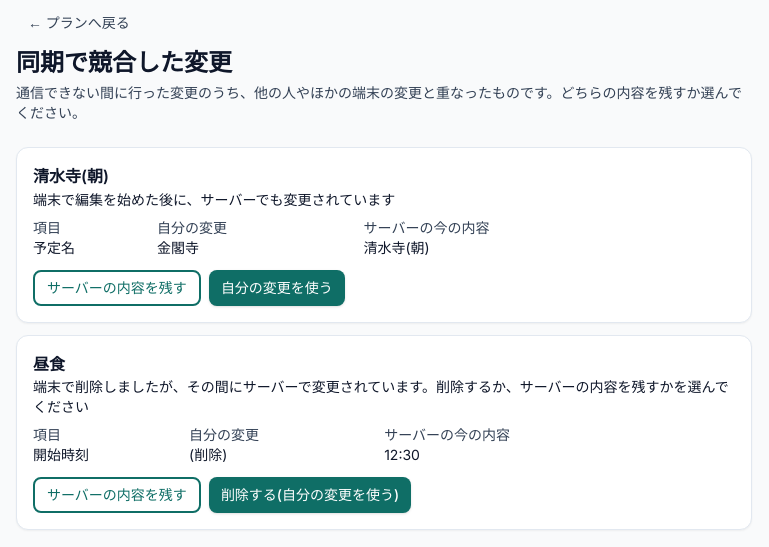
SyncConflictsPage (Gate P11) › 自分の変更とサーバーの内容を比べて、自分の変更を使う(本案のrevisionを送る)
Click the button "自分の変更を使う": (277, 288) [209,270,345,306]
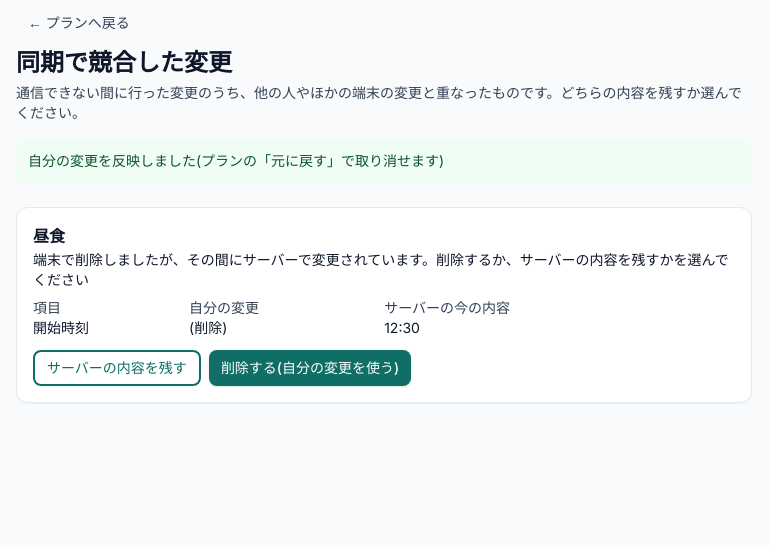
Result: the text "自分の変更を反映しました(プランの「元に戻す」で取り消せます)" is shown at [16,139,752,183]
